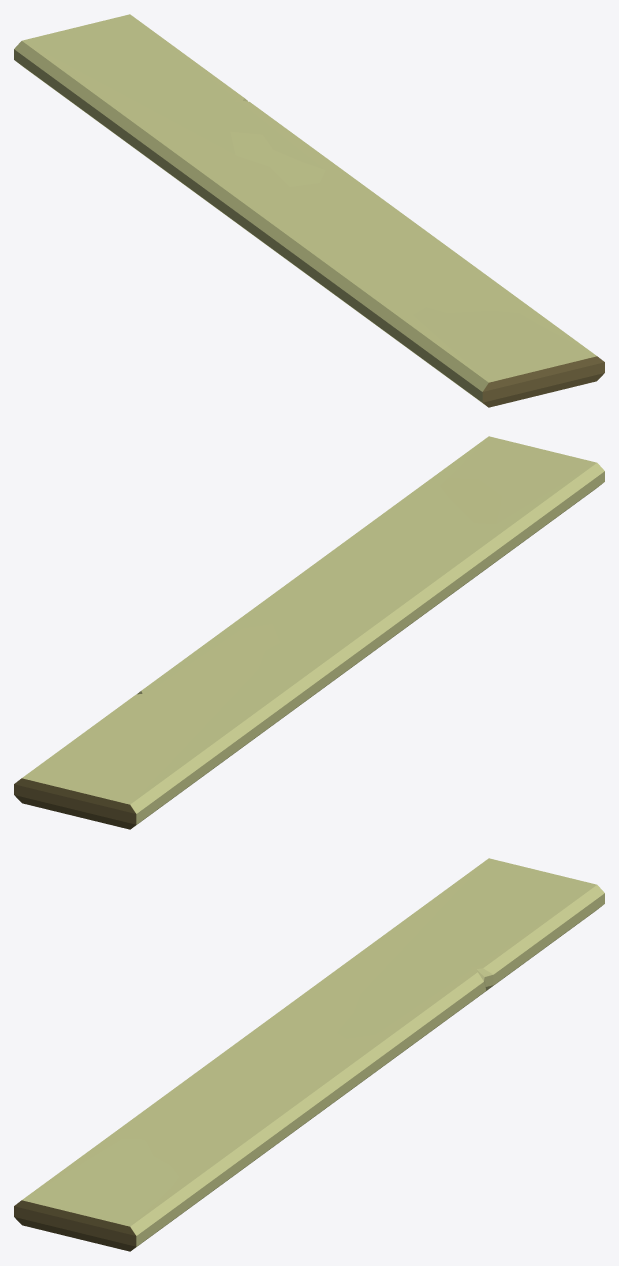
The picture shows the model from 3 angles, top to bottom: view 1: azimuth 30°, elevation 25°; view 2: azimuth 150°, elevation 25°; view 3: azimuth 330°, elevation 25°; orthographic projection.
Parts seen in each view (by area): view 1: Plane; view 2: Plane; view 3: Plane.
Boxes of the visible parts, <box> form: Plane: <box>14,14,604,407</box>; Plane: <box>14,436,604,829</box>; Plane: <box>14,858,604,1251</box>.
Bounding box in the file's own units: 29.27 × 5.76 × 194.
